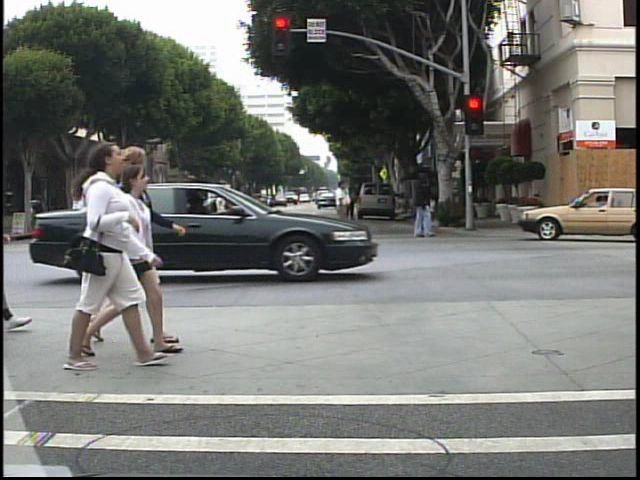person: (57, 141, 154, 378), (113, 161, 182, 366), (120, 144, 178, 351), (404, 167, 440, 240), (329, 177, 356, 234), (156, 187, 180, 250), (69, 190, 95, 246), (206, 182, 229, 240), (65, 184, 85, 248), (343, 187, 359, 223)
